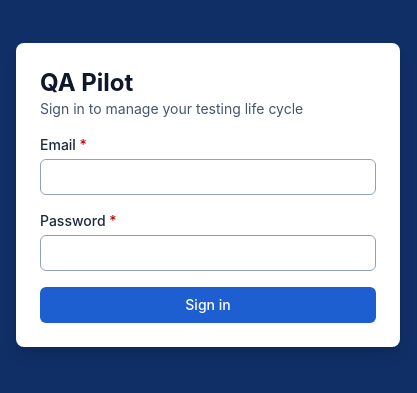
Login › has labelled fields and shows the server error accessibly
The image size is (417, 393).
In the field labelled "Email *": [208, 177] box [40,159,376,195], type "a@b.c"
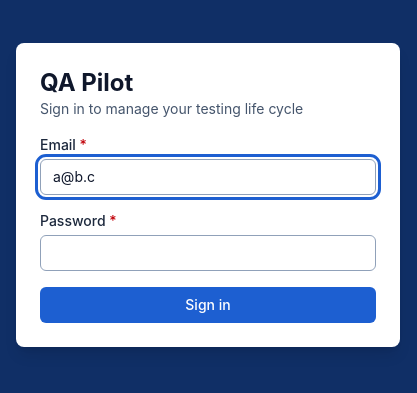
In the password field labelled "Password *": [208, 253] box [40,235,376,271], type "x"
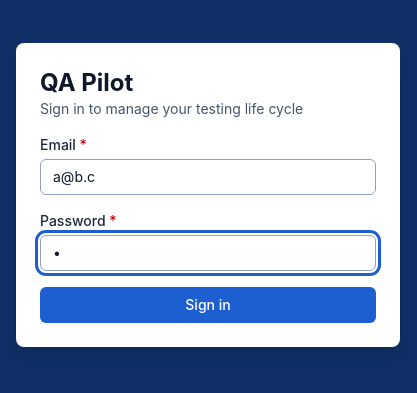
Click the button "Sign in": [208, 305] box [40,287,376,323]
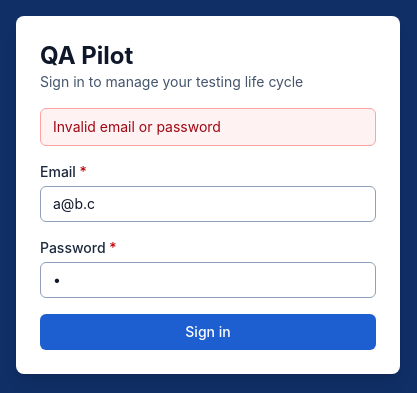
Now the message reads "Invalid email or password", box [53,118,221,135]
